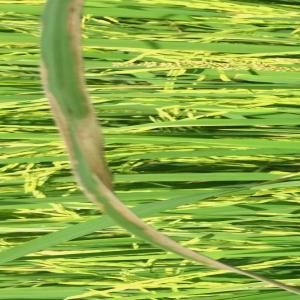2 BacterialBlight: (39, 3, 95, 171)
